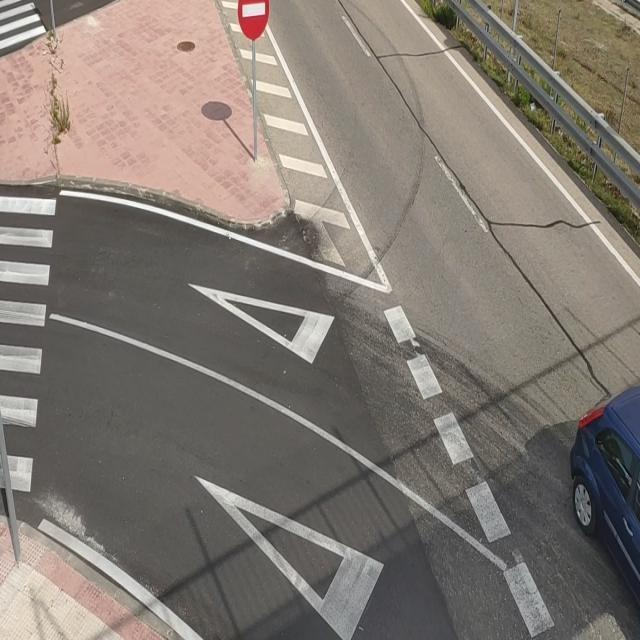Car: (564, 380, 640, 611)
